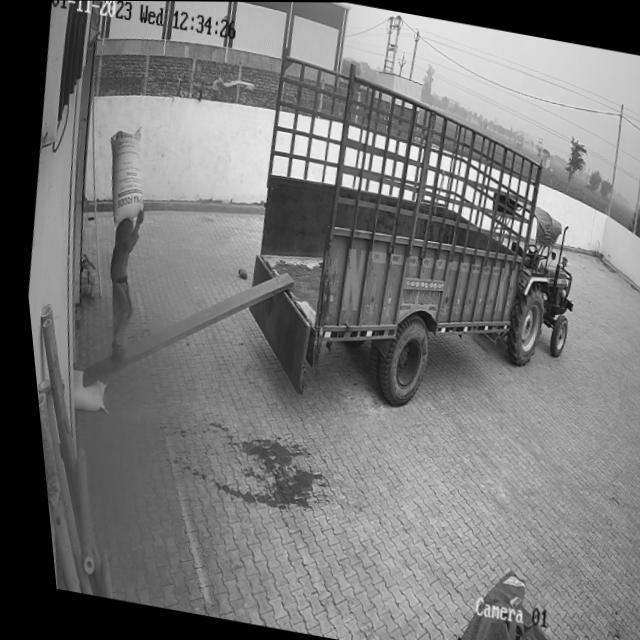sack: (91, 124, 154, 231), (58, 368, 101, 412)
